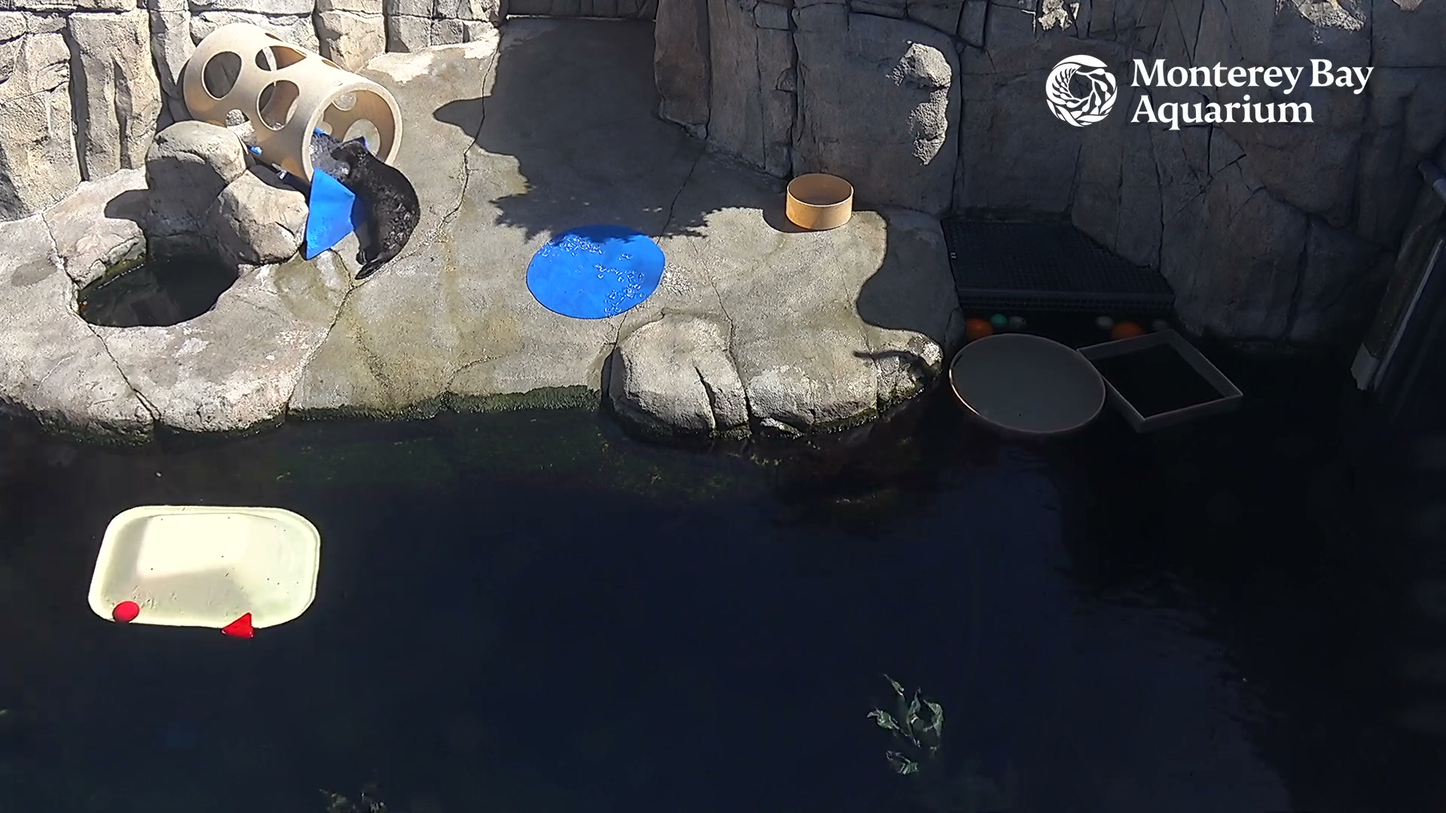Southern Sea Otter: (325, 126, 433, 293)
